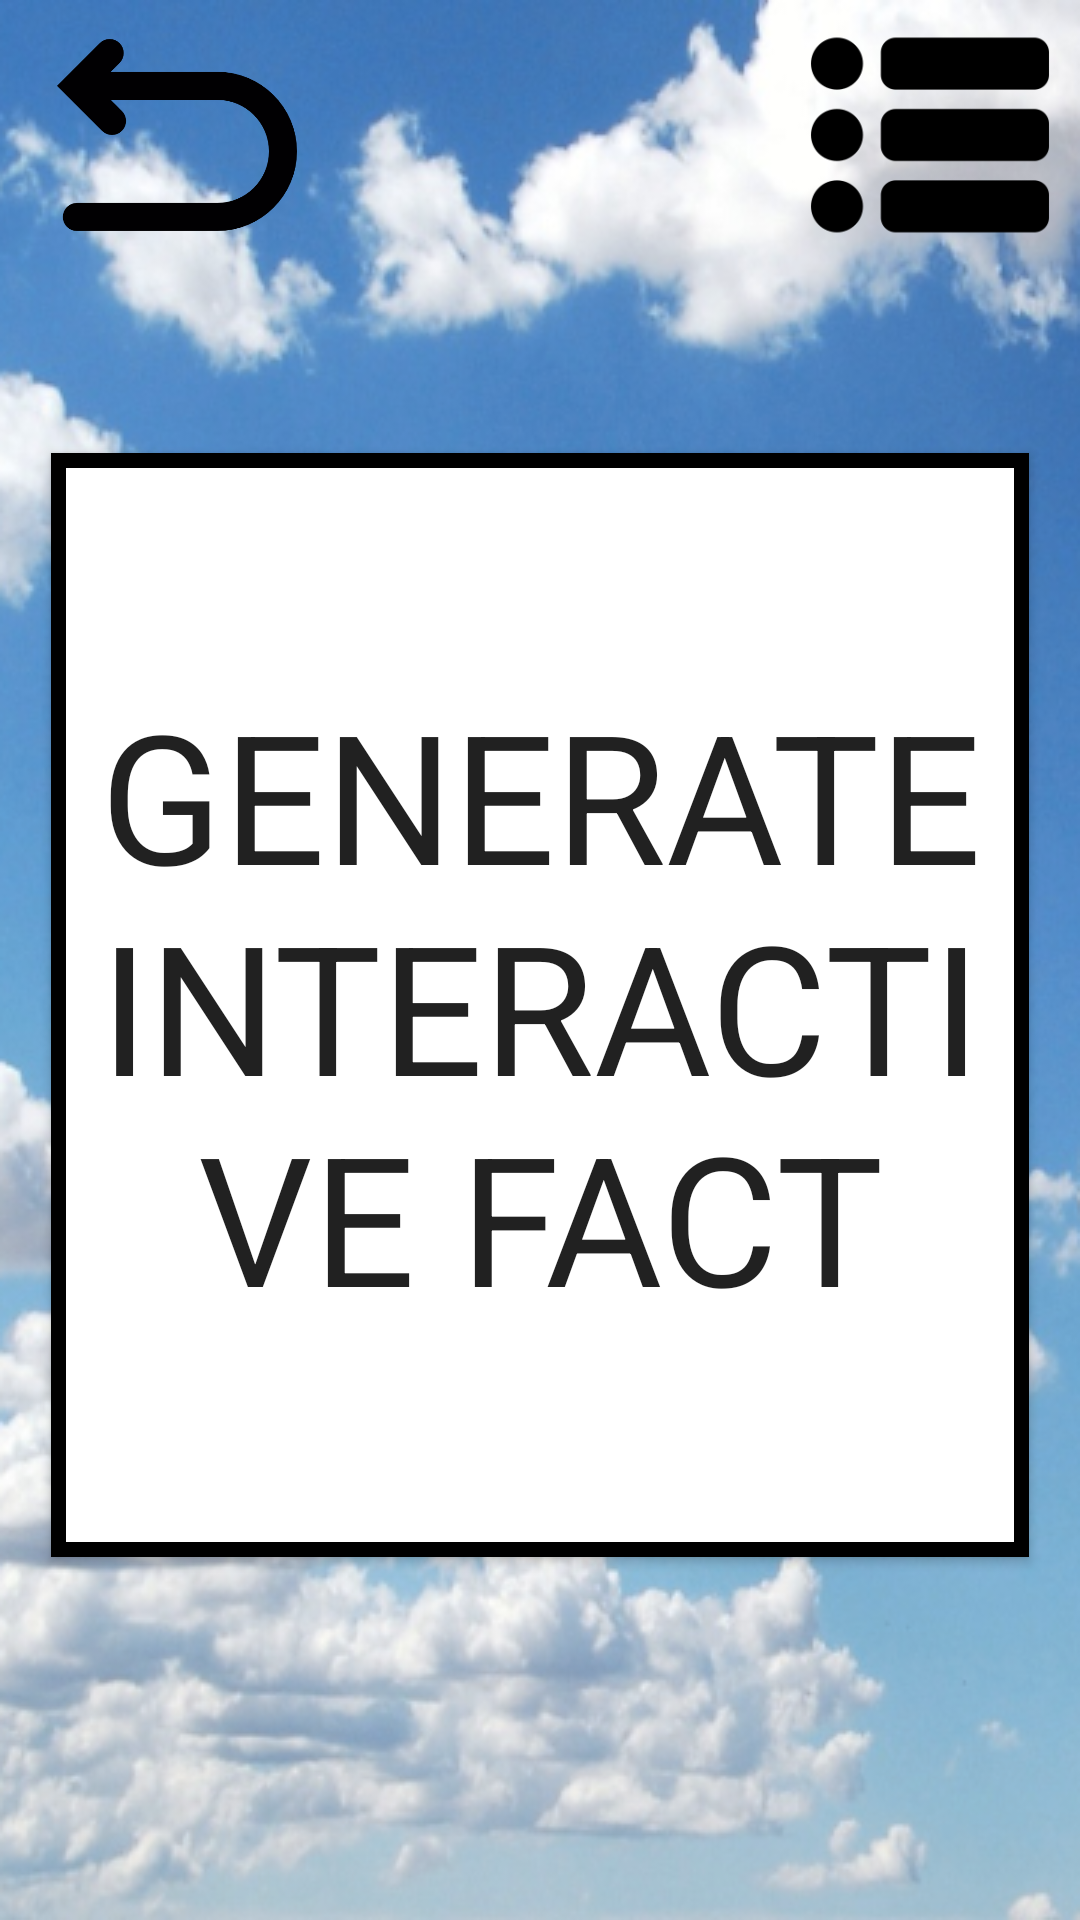

Where to tap for icons on this 1080×1920 app screen, as (x=x, y=y):
Menu button: (x=930, y=135)
Return button image: (x=177, y=147)
